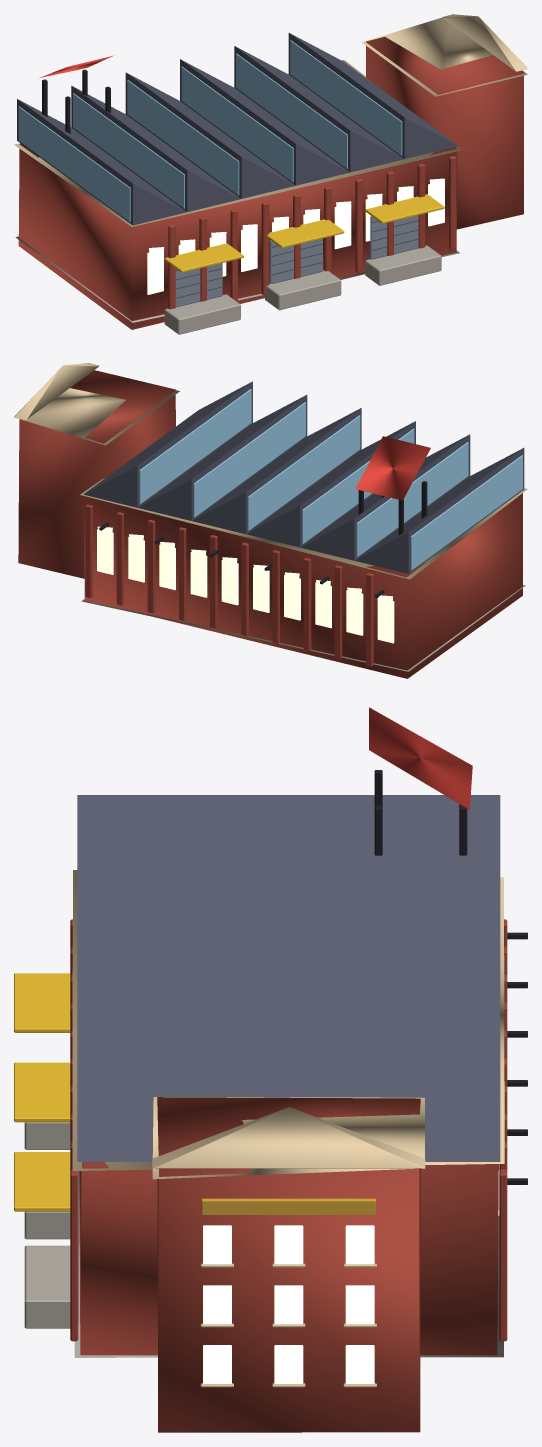
File: factory.glb
3 renders of one model, top to bottom at view 1: azimuth 30°, elevation 25°; view 2: azimuth 150°, elevation 25°; view 3: azimuth 270°, elevation 25°, orthographic. The views are drawn at different scales.
Parts seen in each view (by area): view 1: factory; view 2: factory; view 3: factory.
Boxes of the visible parts, box(x1,y1,x2,y2) form: factory: box(14, 14, 527, 334); factory: box(14, 363, 527, 678); factory: box(14, 707, 527, 1432).
Bounding box in the file's own units: 33.41 × 15.52 × 19.45.
1 material, 1 textured.
